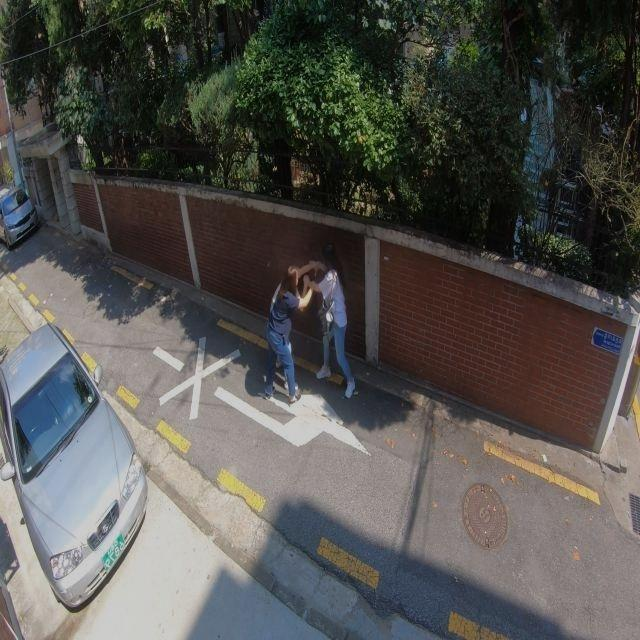fight: (262, 257, 358, 412)
